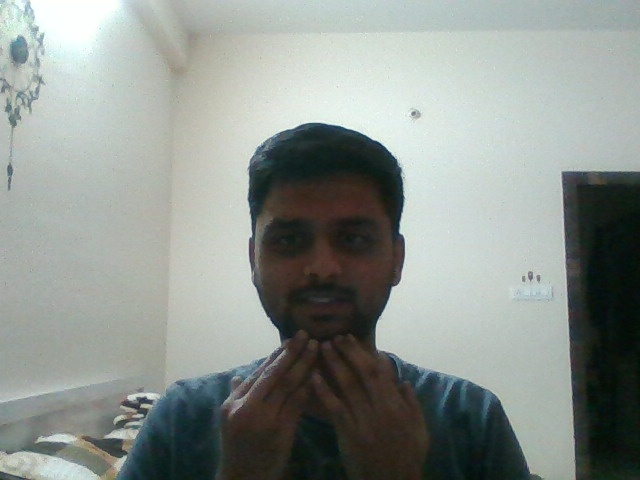thanks: (187, 285, 466, 472)
